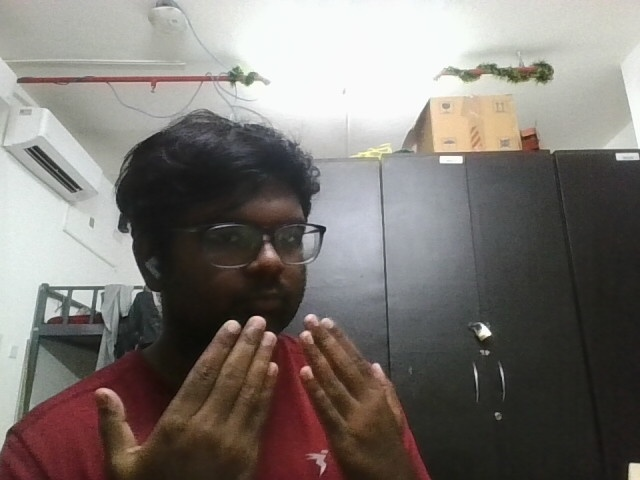Thanks: (82, 314, 457, 479)
